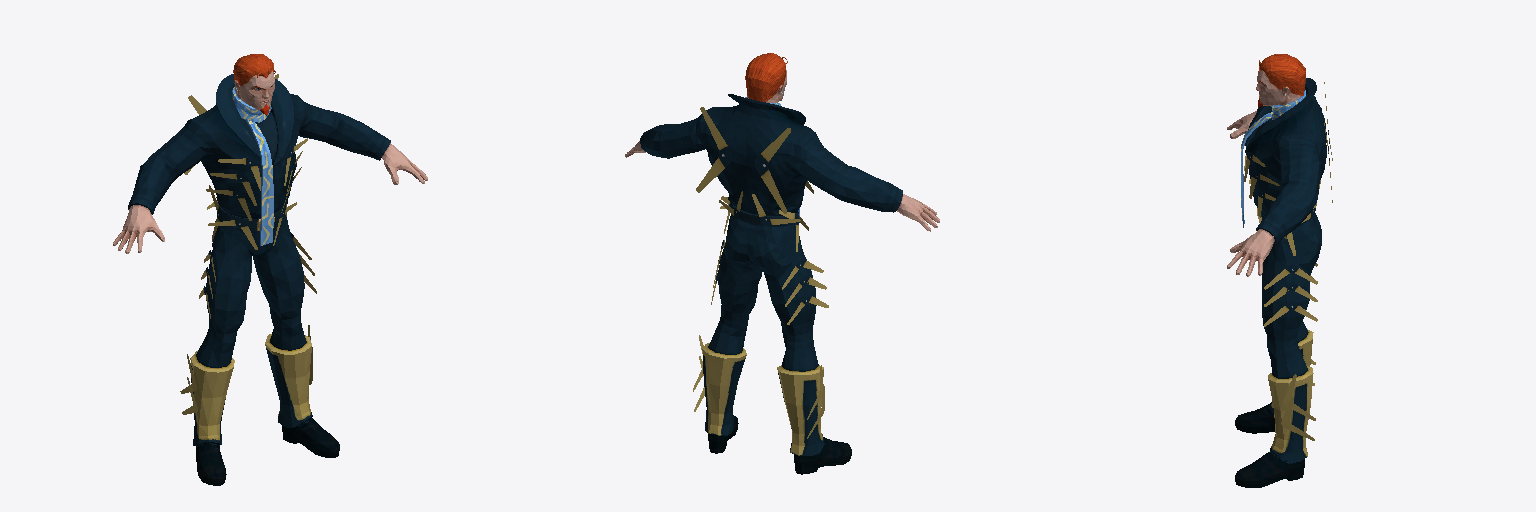
3 views of the same model, side by side, from view 1: azimuth 30°, elevation 25°; view 2: azimuth 150°, elevation 25°; view 3: azimuth 270°, elevation 25° (orthographic).
Parts seen in each view (by area): view 1: VisualSceneNode64_Geometry1, VisualSceneNode63_Geometry; view 2: VisualSceneNode64_Geometry1, VisualSceneNode63_Geometry; view 3: VisualSceneNode64_Geometry1, VisualSceneNode63_Geometry.
Boxes of the visible parts, <box> form: VisualSceneNode64_Geometry1: <box>113,71,427,485</box>; VisualSceneNode63_Geometry: <box>233,54,275,85</box>; VisualSceneNode64_Geometry1: <box>625,70,939,474</box>; VisualSceneNode63_Geometry: <box>745,53,787,101</box>; VisualSceneNode64_Geometry1: <box>1227,70,1332,487</box>; VisualSceneNode63_Geometry: <box>1259,54,1305,94</box>.
Size of the model in its own units: 3.21 by 4 by 0.958.
1 materials, 1 textured.